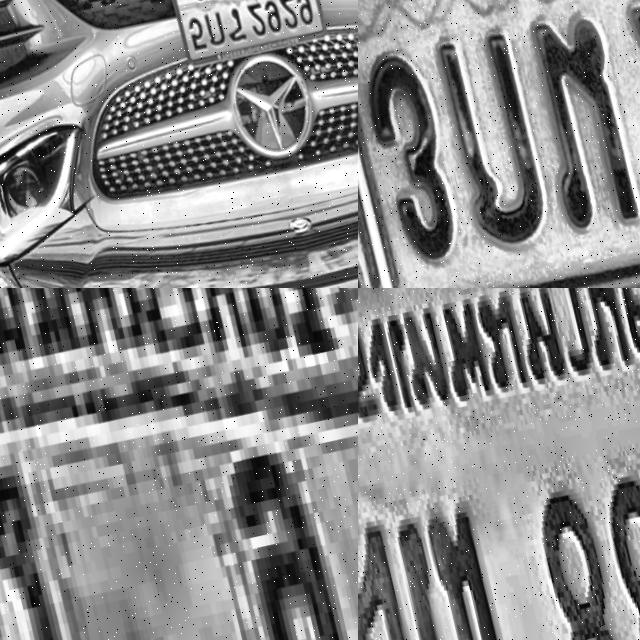license-plate: (0, 288, 358, 640), (358, 288, 640, 640), (358, 0, 640, 288), (161, 0, 329, 69)
